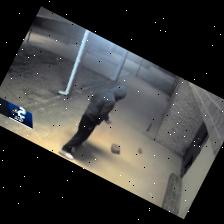person: (59, 85, 125, 159)
